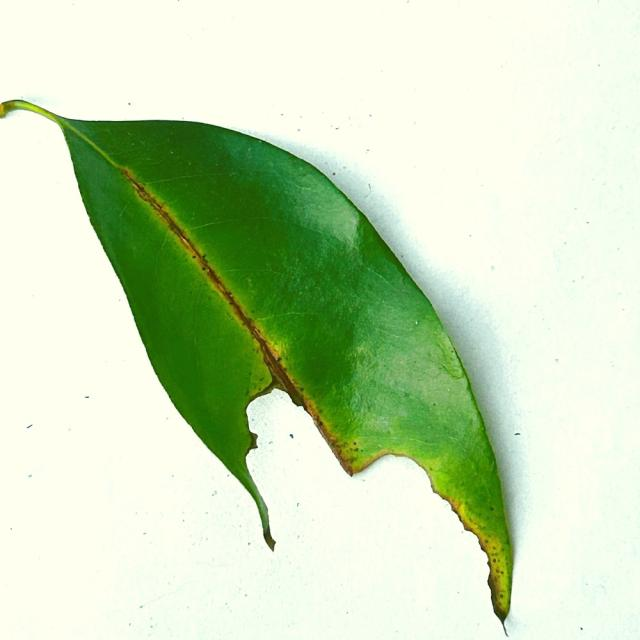Deficiency Leaf: (247, 390, 507, 639)
Lychee: (3, 101, 513, 620)
